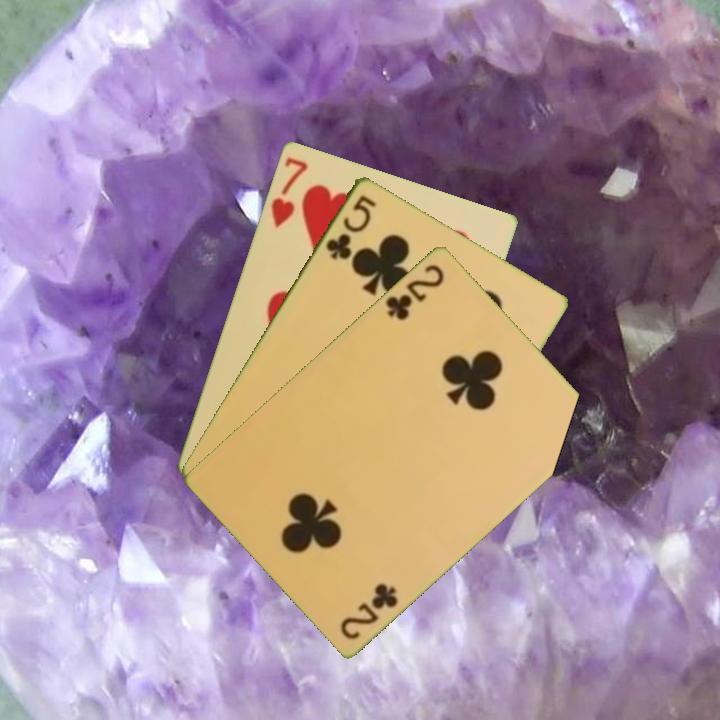2c: (336, 578, 401, 642), (381, 260, 447, 323)
5c: (322, 190, 379, 262)
7h: (267, 153, 311, 230)
